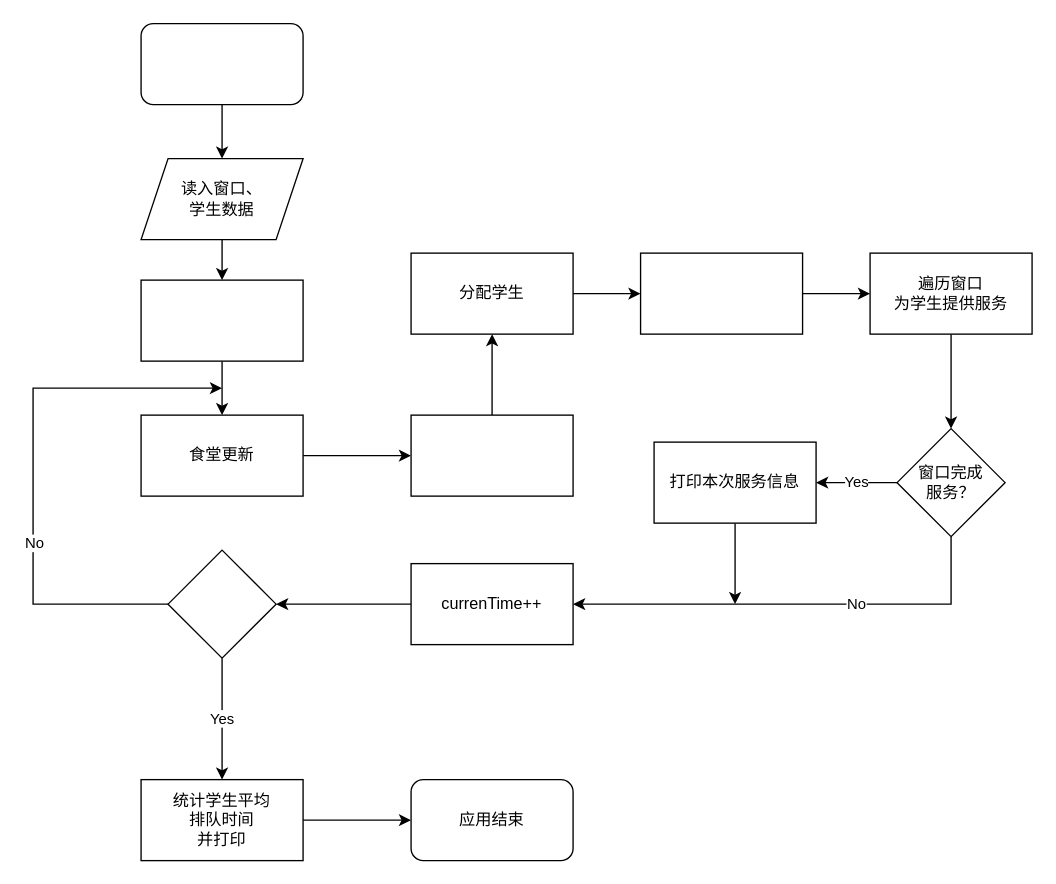
This 1056x884 diagram has some shape labels left out. Each missing label, with the centre of its shape:
"到达 endTime?" belongs at pixel 221 603.
"应用启动" belongs at pixel 221 63.
"接受学生 打印进入食堂的 学生信息" belongs at pixel 491 455.
"窗口均衡负载 学生进入窗口队列" belongs at pixel 721 293.
"食堂启动 currentTime = 0" belongs at pixel 221 320.
